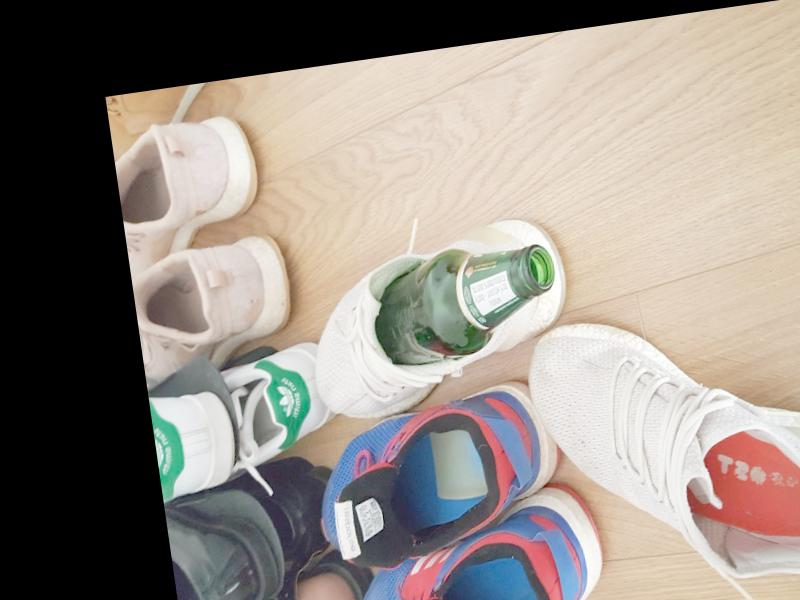Beer: (367, 235, 566, 372)
